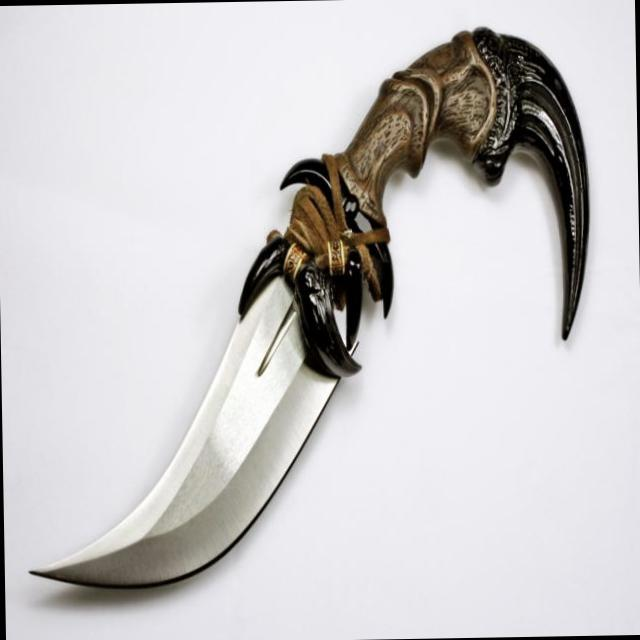Knife: (33, 28, 586, 585)
